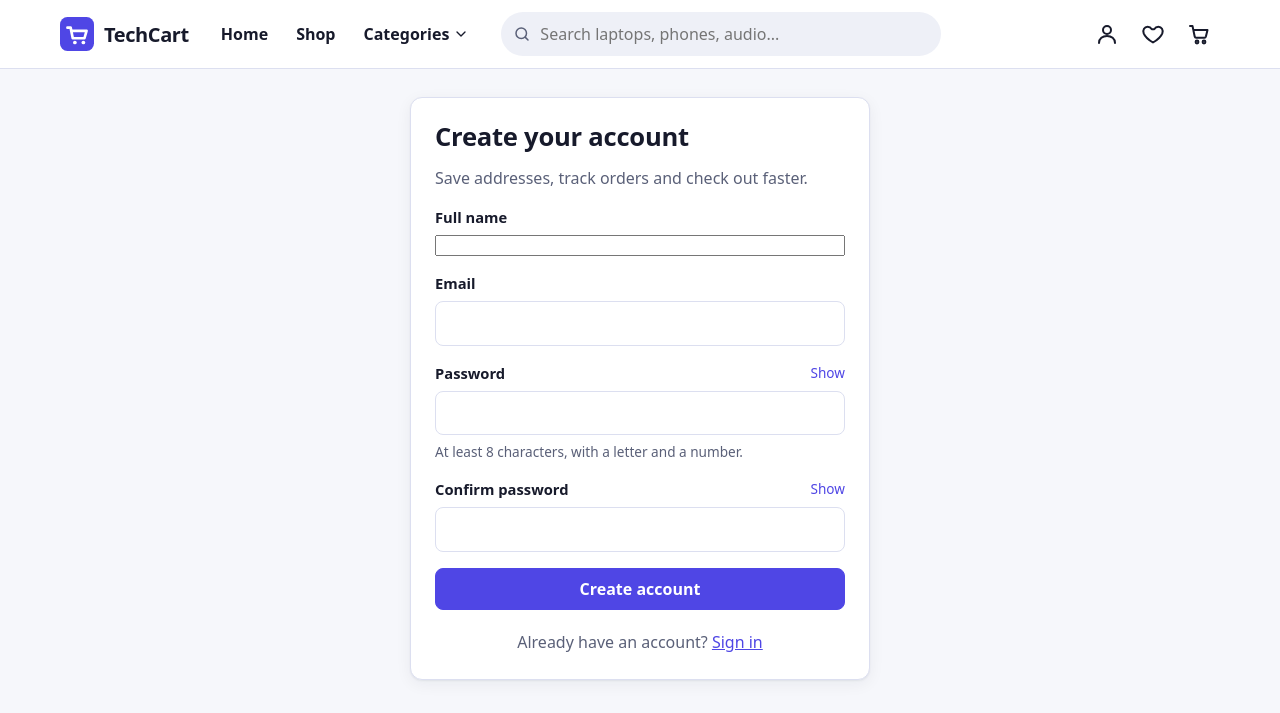
registration › shows an error for every empty field and focuses the first
What coordinates should you click on to do the following:
click the button "Create account"
I would click on:
 (640, 589)
Its box is top-left (435, 568), bottom-right (845, 610).
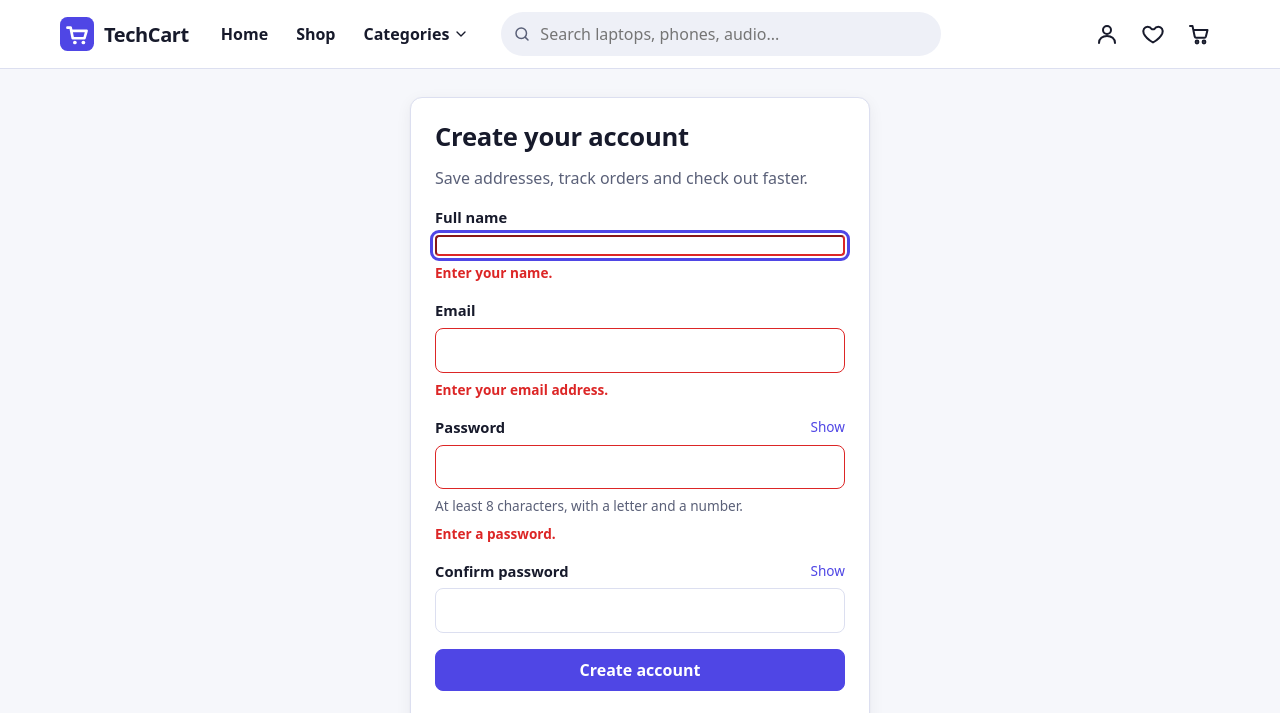
Result: the text "Enter your name." is shown at top-left (435, 263), bottom-right (552, 282)
Result: the text "Enter your email address." is shown at top-left (435, 380), bottom-right (608, 399)
Result: the text "Enter a password." is shown at top-left (435, 524), bottom-right (556, 542)
